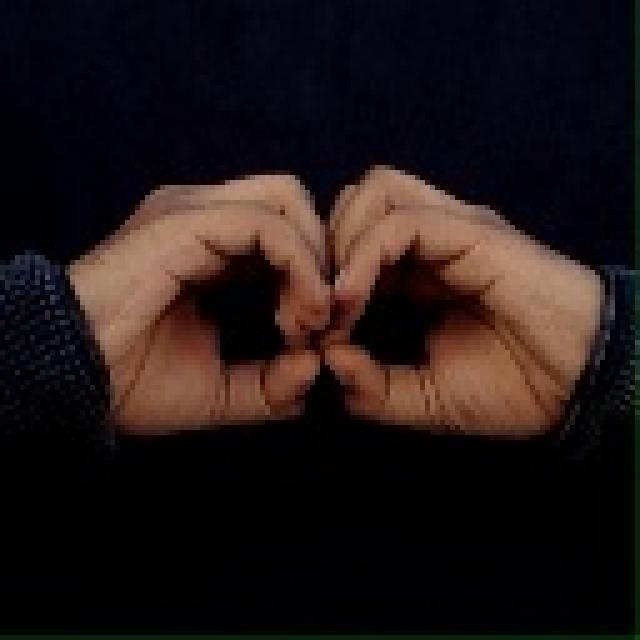Alphabet-B: (46, 165, 590, 446)
